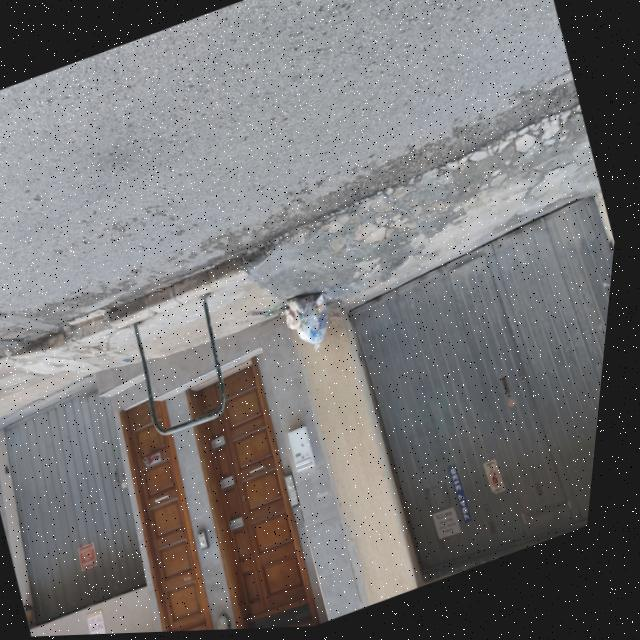Recycled Waste -Grey or Green Bag-: (287, 286, 351, 361), (288, 307, 311, 336)
